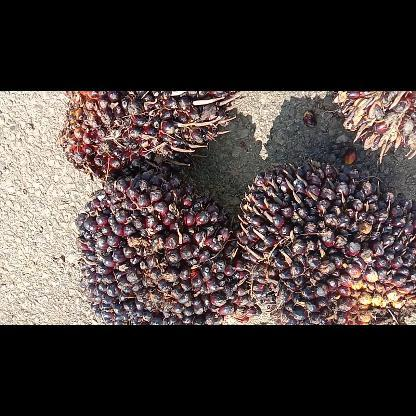TBS mentah: (237, 162, 415, 324), (76, 172, 257, 324), (60, 91, 242, 181), (331, 91, 415, 164)
